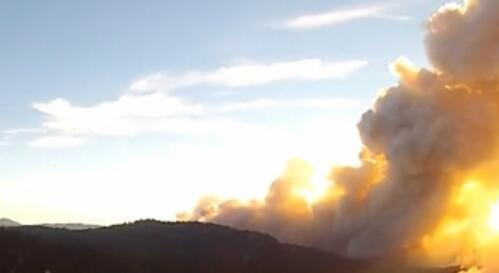yanwu: (179, 7, 499, 255)
